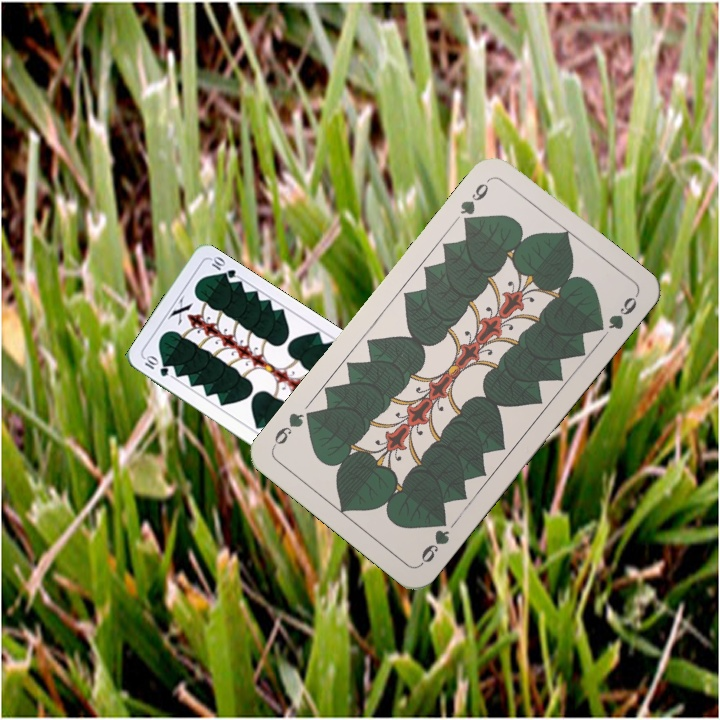G10: (140, 352, 171, 379)
G9: (416, 512, 453, 568), (456, 174, 493, 230)
